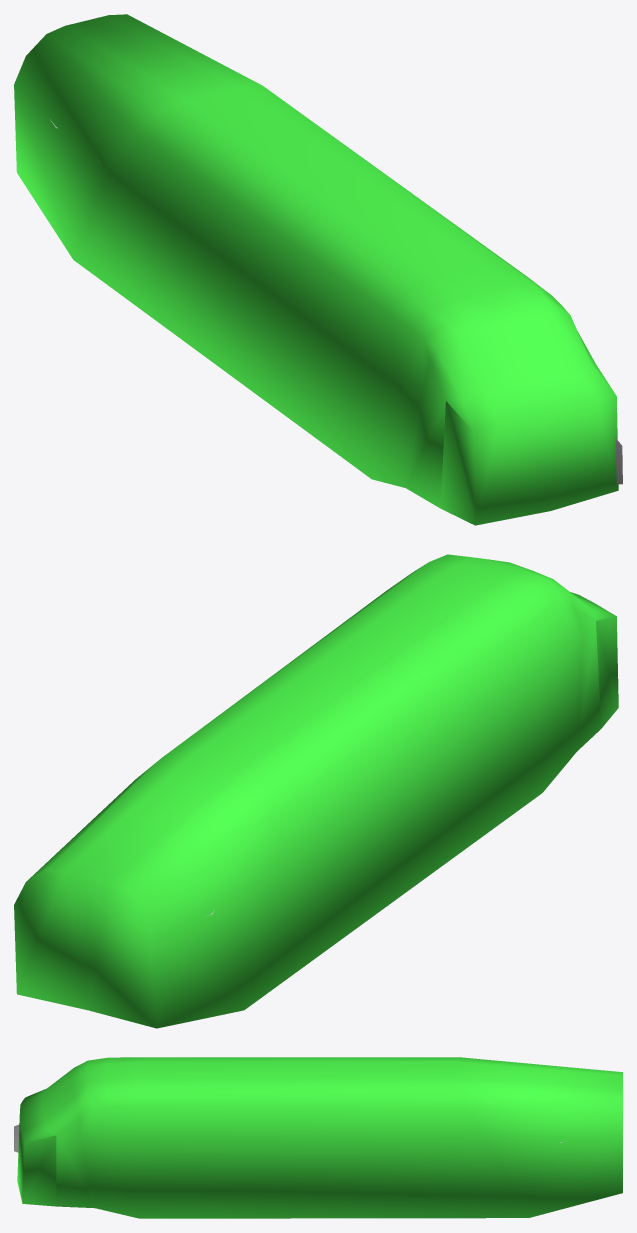
Rendered from KINGAIR_350I_interior_LOD3.gltf.
3 renders of one model, top to bottom at view 1: azimuth 30°, elevation 25°; view 2: azimuth 150°, elevation 25°; view 3: azimuth 270°, elevation 25°, orthographic. The views are drawn at different scales.
Parts seen in each view (by area): view 1: OCCLUDER; view 2: OCCLUDER; view 3: OCCLUDER.
Part boxes in pixels (box(x1,y1,x2,y2)): OCCLUDER: box(14, 14, 618, 525); OCCLUDER: box(14, 554, 618, 1028); OCCLUDER: box(17, 1057, 622, 1218).
Size of the model in its own units: 1.6 by 1.66 by 7.55.
